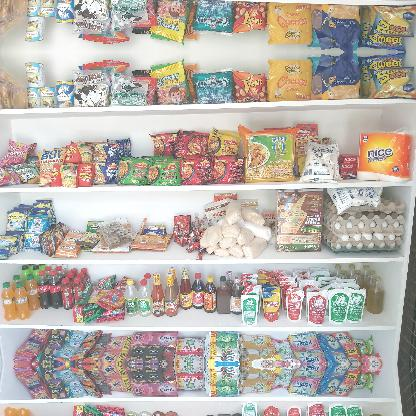Koko-Krunch: (275, 186, 323, 252)
